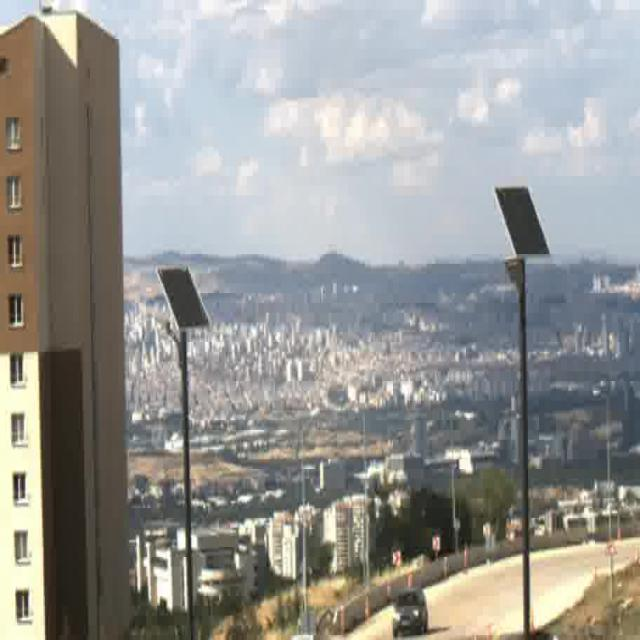Car: (392, 587, 428, 640)
